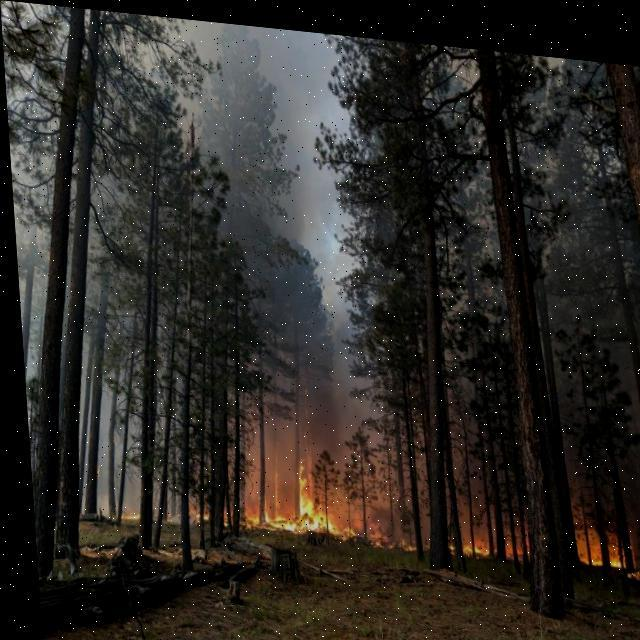Fire: (234, 452, 357, 536), (568, 528, 626, 560), (436, 524, 489, 554)
